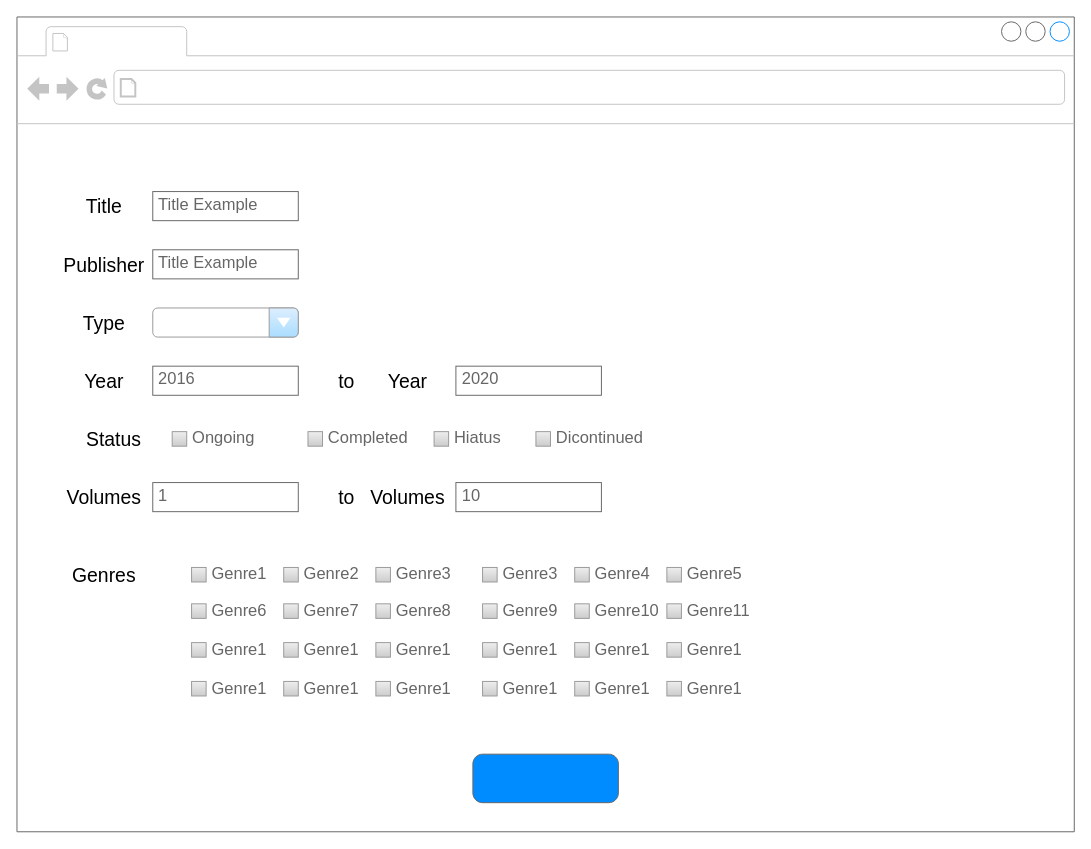
The diagram is 1091 pixels wide and 849 high, and some of its shapes have lost their labels. The box of each missing label's shape, as (x1, y1, x2, y2) in pixels:
Advanced Search: (472, 753, 618, 803)
https://www.draw.io: (142, 74, 386, 100)
Option 1: (152, 307, 298, 337)
Page 1: (74, 28, 182, 54)
